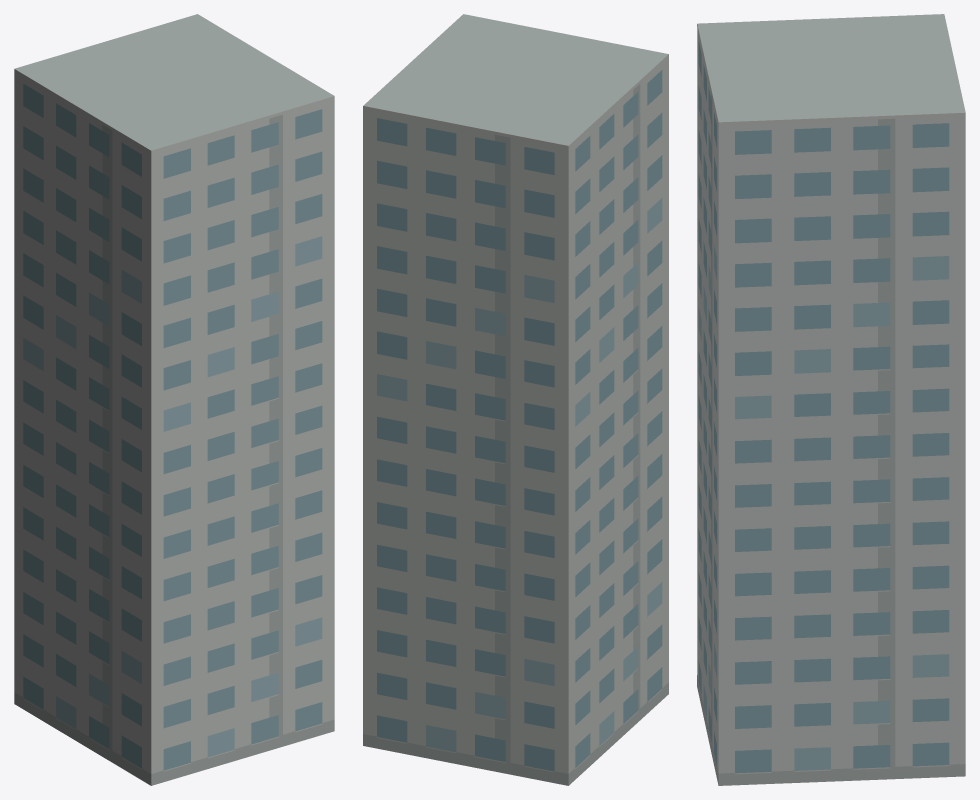
Rendered from residential-c8633476-76f2-43c6-8bd2-abe6c4e18c16.glb.
3 views of the same model, side by side, from view 1: azimuth 30°, elevation 25°; view 2: azimuth 150°, elevation 25°; view 3: azimuth 270°, elevation 25° (orthographic). The views are drawn at different scales.
Visible parts, largest first — view 1: residential-c8633476-76f2-43c6-8bd2-abe6c4e18c16.tmp; view 2: residential-c8633476-76f2-43c6-8bd2-abe6c4e18c16.tmp; view 3: residential-c8633476-76f2-43c6-8bd2-abe6c4e18c16.tmp.
Part boxes in pixels (x1,y1,x2,y2): residential-c8633476-76f2-43c6-8bd2-abe6c4e18c16.tmp: [14, 14, 334, 785]; residential-c8633476-76f2-43c6-8bd2-abe6c4e18c16.tmp: [363, 14, 668, 785]; residential-c8633476-76f2-43c6-8bd2-abe6c4e18c16.tmp: [697, 14, 965, 785].
Size of the model in its own units: 17.51 by 50 by 18.35.
